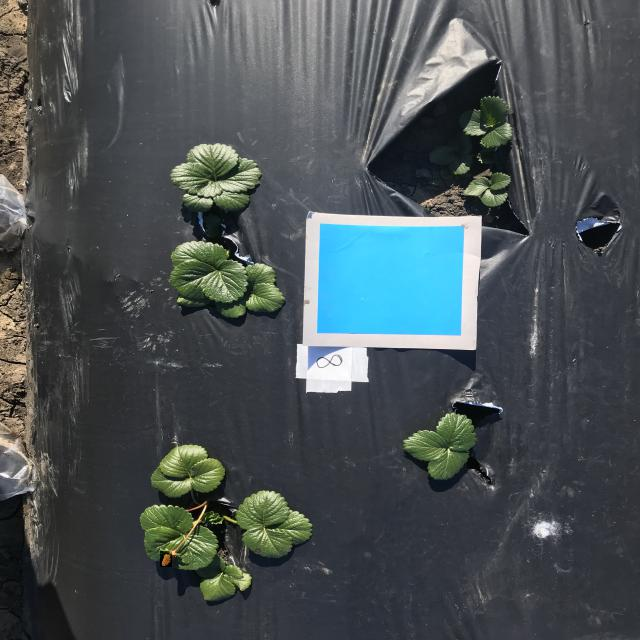Green Strawberry: (160, 551, 173, 568)
